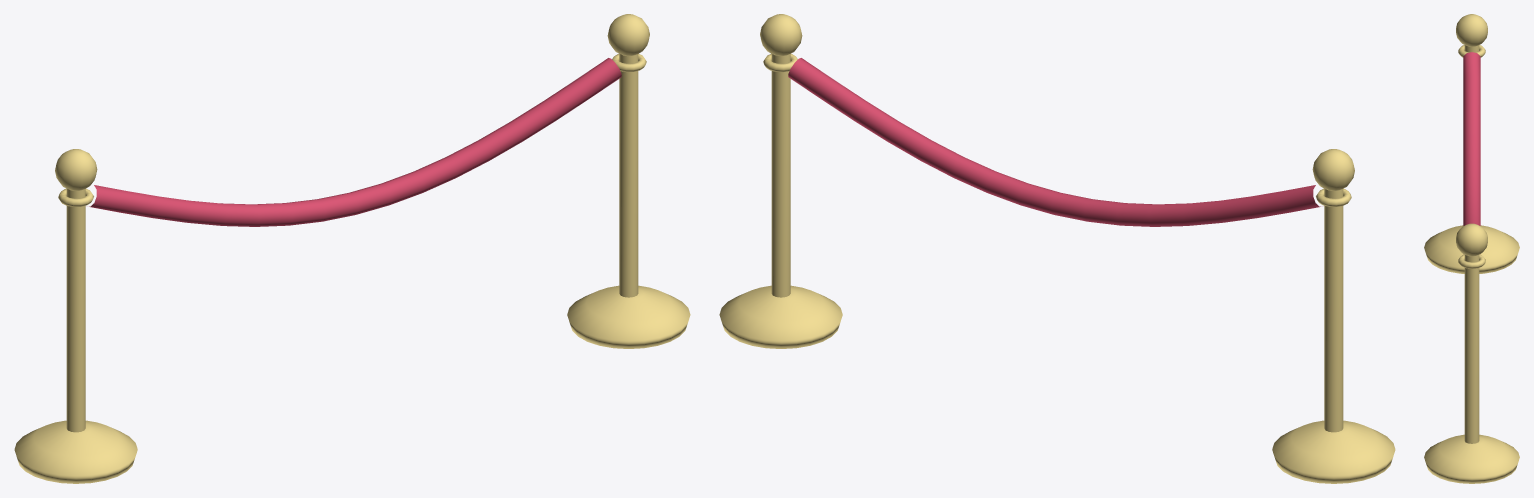
The model's file is SlaparazziRope.glb.
3 renders of one model, left to right at view 1: azimuth 30°, elevation 25°; view 2: azimuth 150°, elevation 25°; view 3: azimuth 270°, elevation 25°, orthographic. The views are drawn at different scales.
Visible parts, largest first — view 1: Brass, Rope; view 2: Brass, Rope; view 3: Brass, Rope.
Boxes of the visible parts, left/top/right/bottom form: Brass: left=14, top=14, right=690, bottom=483; Rope: left=89, top=58, right=621, bottom=226; Brass: left=719, top=14, right=1395, bottom=483; Rope: left=788, top=58, right=1320, bottom=226; Brass: left=1424, top=14, right=1519, bottom=483; Rope: left=1463, top=52, right=1480, bottom=225.
Size of the model in its own units: 7.16 by 3.2 by 1.16.
